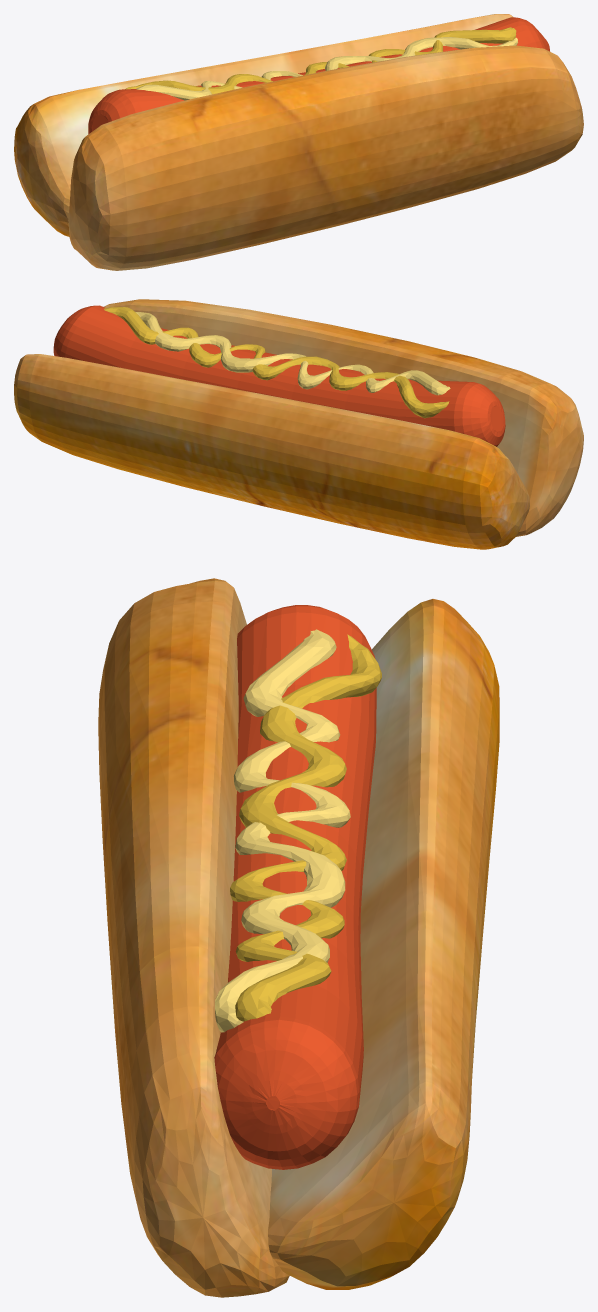
The model's file is sweethome3d-blendswap-cc-0-hot-dog.glb.
3 views of the same model, one above another, from view 1: azimuth 30°, elevation 25°; view 2: azimuth 150°, elevation 25°; view 3: azimuth 270°, elevation 25° (orthographic). The views are drawn at different scales.
Parts seen in each view (by area): view 1: Pan2_Cube.001, Pan1_Cube, Salchicha_Cylinder.002, Mostaza_NurbsPath.000, Mayonesa_NurbsPath.001; view 2: Pan1_Cube, Pan2_Cube.001, Salchicha_Cylinder.002, Mostaza_NurbsPath.000, Mayonesa_NurbsPath.001; view 3: Pan2_Cube.001, Pan1_Cube, Salchicha_Cylinder.002, Mayonesa_NurbsPath.001, Mostaza_NurbsPath.000.
Part boxes in pixels (box(x1,y1,x2,y2)): Pan2_Cube.001: box(68, 45, 583, 270); Pan1_Cube: box(14, 14, 513, 236); Salchicha_Cylinder.002: box(88, 17, 549, 134); Mostaza_NurbsPath.000: box(125, 27, 516, 94); Mayonesa_NurbsPath.001: box(136, 37, 517, 100); Pan1_Cube: box(14, 354, 529, 549); Pan2_Cube.001: box(104, 299, 583, 536); Salchicha_Cylinder.002: box(53, 305, 505, 446); Mostaza_NurbsPath.000: box(104, 307, 449, 418); Mayonesa_NurbsPath.001: box(135, 312, 450, 395); Pan2_Cube.001: box(98, 578, 289, 1297); Pan1_Cube: box(268, 599, 499, 1289); Salchicha_Cylinder.002: box(214, 605, 376, 1169); Mayonesa_NurbsPath.001: box(215, 629, 350, 1032); Mostaza_NurbsPath.000: box(230, 634, 381, 1021).
Bounding box in the file's own units: 21.05 × 6.46 × 7.33.
Materials: 5 (2 with a texture image).
